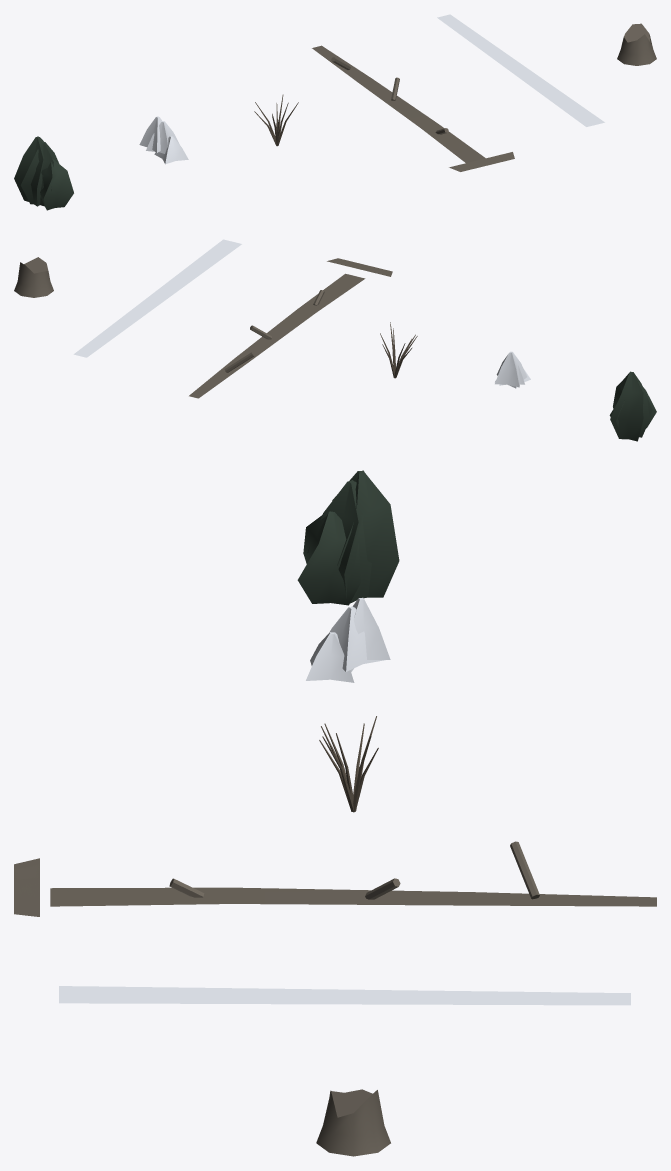
Rendered from Flora.fbx.
3 renders of one model, top to bottom at view 1: azimuth 30°, elevation 25°; view 2: azimuth 150°, elevation 25°; view 3: azimuth 270°, elevation 25°, orthographic. The views are drawn at different scales.
Visible parts, largest first — view 1: Fallen, ShrubA, SnowFallen, SnowShrubA, Stump, ShrubB; view 2: Fallen, SnowFallen, ShrubA, Stump, SnowShrubA, ShrubB; view 3: Fallen, ShrubA, SnowFallen, SnowShrubA, Stump, ShrubB.
Boxes of the visible parts, x1,y1,x2,y2 form: Fallen: [312, 45, 514, 171]; ShrubA: [14, 136, 73, 210]; SnowFallen: [437, 14, 604, 126]; SnowShrubA: [139, 116, 188, 164]; Stump: [617, 23, 656, 65]; ShrubB: [254, 94, 298, 146]; Fallen: [189, 258, 392, 398]; SnowFallen: [73, 239, 241, 357]; ShrubA: [609, 371, 656, 441]; Stump: [14, 257, 53, 297]; SnowShrubA: [495, 351, 530, 388]; ShrubB: [380, 322, 417, 378]; Fallen: [14, 841, 656, 916]; ShrubA: [297, 470, 399, 605]; SnowFallen: [59, 986, 630, 1005]; SnowShrubA: [306, 597, 390, 682]; Stump: [316, 1089, 390, 1156]; ShrubB: [319, 716, 378, 812].
Bounding box in the file's own units: 15.83 × 1.55 × 7.42.
